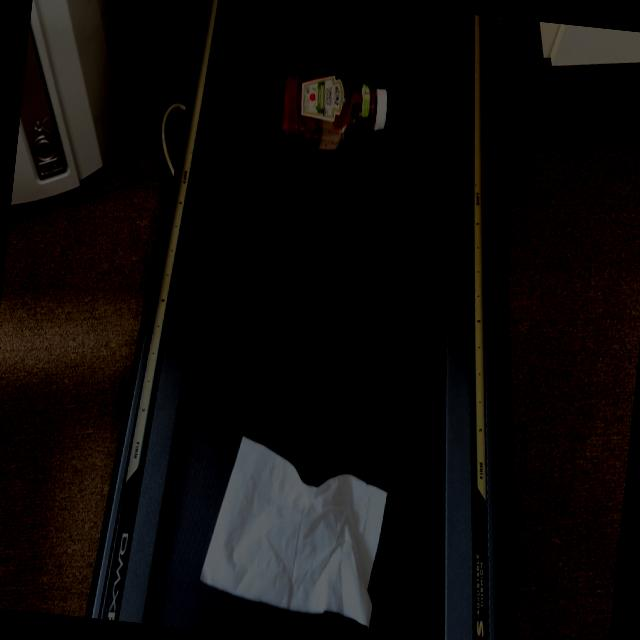Recycle: (197, 426, 396, 630)
Trash: (272, 61, 392, 166)
